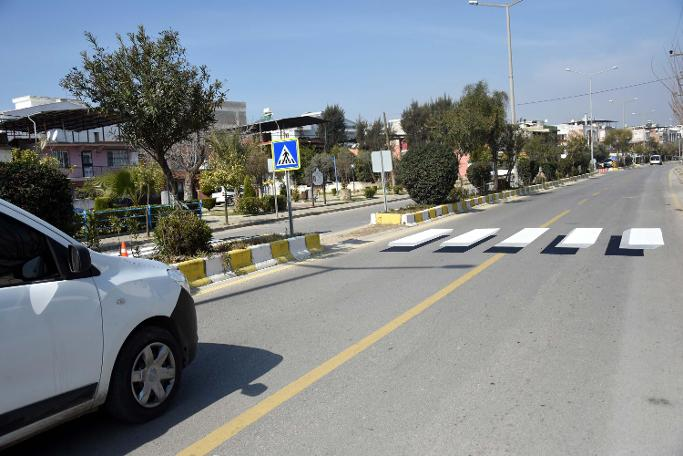Yaya Gecidi: (269, 142, 301, 169)
